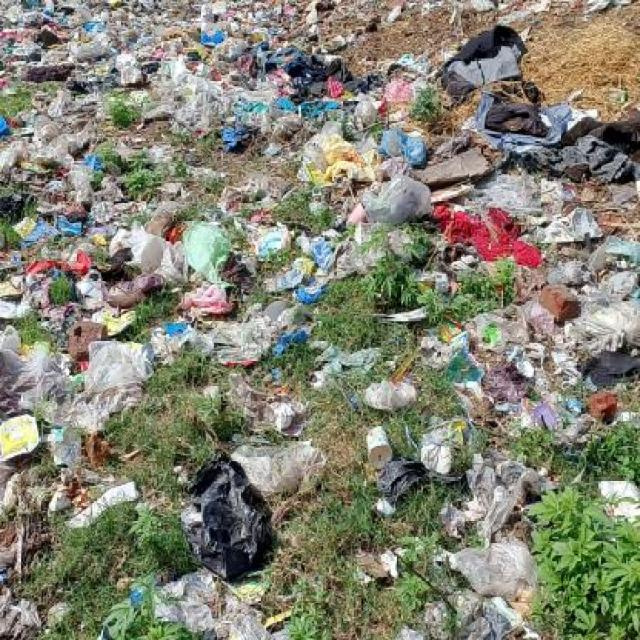garbage: (0, 2, 639, 456), (179, 440, 305, 639), (449, 449, 556, 640), (0, 455, 94, 536), (365, 455, 455, 522), (72, 469, 146, 544), (126, 582, 190, 639), (589, 466, 640, 520), (346, 549, 410, 590)
